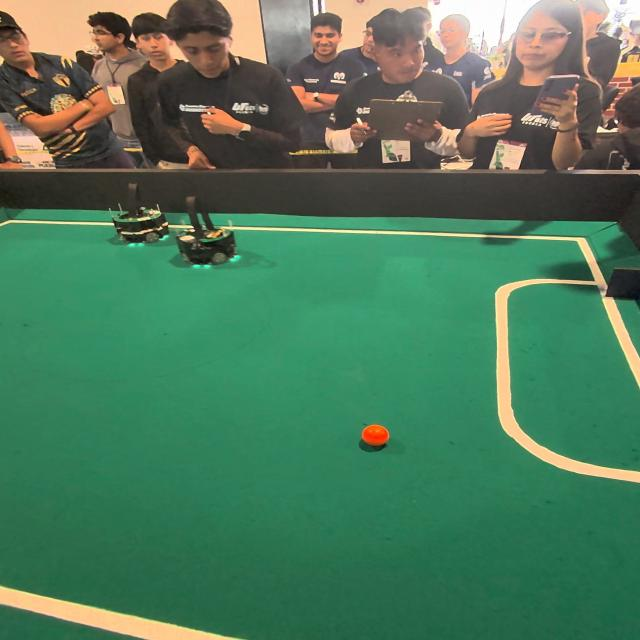Robot: (177, 192, 246, 276), (105, 180, 171, 253)
pelota: (362, 423, 392, 451)
